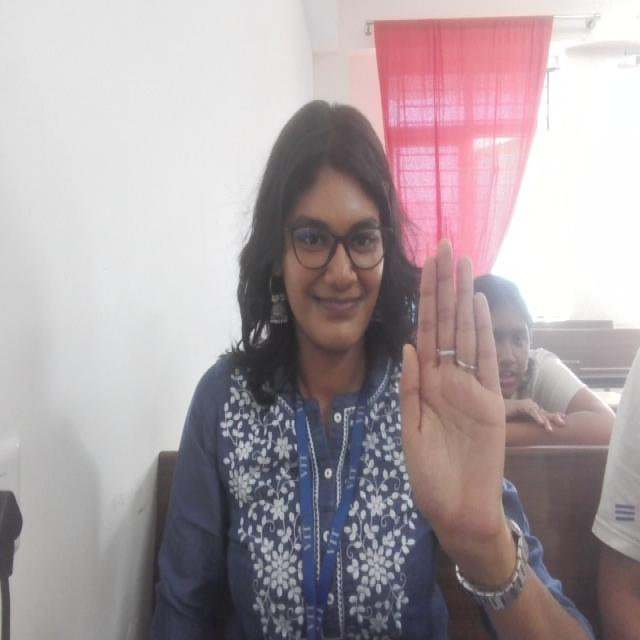hello: (400, 236, 507, 541)
